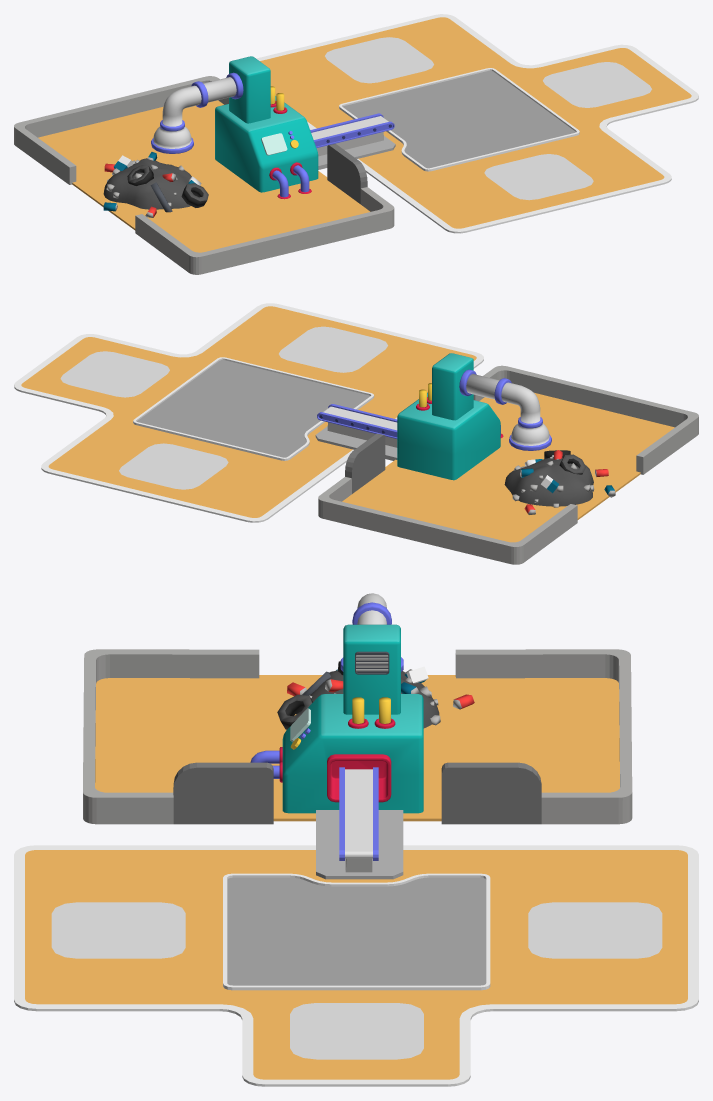
The model's file is Garbage_Container_L1.fbx.
The picture shows the model from 3 angles, top to bottom: view 1: azimuth 30°, elevation 25°; view 2: azimuth 150°, elevation 25°; view 3: azimuth 270°, elevation 25°; orthographic projection. The views are drawn at different scales.
Visible parts, largest first — view 1: Cube.096, Cube.097, Cube.160, Cube.008, Cube.014, Cube.007, Sphere, Upgrade Box, Buy Garbage Box, Pick Up Box, Cylinder.019, Cube.021 (+5 smaller); view 2: Cube.096, Cube.097, Cube.160, Cube.007, Cube.014, Cube.008, Sphere, Pick Up Box, Buy Garbage Box, Upgrade Box, Cylinder.019, Cube.021 (+4 smaller); view 3: Cube.096, Cube.097, Cube.160, Cube.007, Cube.008, Cube.014, Buy Garbage Box, Upgrade Box, Pick Up Box, Cube.021, Cube.012, Sphere (+4 smaller).
Part boxes in pixels (x1=…): Cube.096: x1=256, y1=14, x2=698, y2=233; Cube.097: x1=38, y1=100, x2=370, y2=252; Cube.160: x1=339, y1=68, x2=579, y2=171; Cube.008: x1=135, y1=144, x2=394, y2=274; Cube.014: x1=215, y1=96, x2=318, y2=192; Cube.007: x1=14, y1=76, x2=228, y2=184; Sphere: x1=103, y1=152, x2=208, y2=217; Upgrade Box: x1=484, y1=154, x2=593, y2=200; Buy Garbage Box: x1=325, y1=37, x2=433, y2=83; Pick Up Box: x1=543, y1=62, x2=651, y2=107; Cylinder.019: x1=151, y1=77, x2=236, y2=153; Cube.021: x1=229, y1=56, x2=270, y2=123; Cube.096: x1=14, y1=303, x2=483, y2=522; Cube.097: x1=342, y1=392, x2=674, y2=542; Cube.160: x1=133, y1=357, x2=374, y2=460; Cube.007: x1=318, y1=433, x2=577, y2=564; Cube.014: x1=397, y1=392, x2=500, y2=480; Cube.008: x1=473, y1=365, x2=698, y2=474; Sphere: x1=504, y1=450, x2=615, y2=514; Pick Up Box: x1=60, y1=351, x2=169, y2=397; Buy Garbage Box: x1=119, y1=443, x2=228, y2=489; Upgrade Box: x1=279, y1=326, x2=387, y2=372; Cylinder.019: x1=466, y1=374, x2=551, y2=450; Cube.021: x1=432, y1=353, x2=473, y2=420; Cube.096: x1=14, y1=845, x2=698, y2=1086; Cube.097: x1=95, y1=675, x2=619, y2=821; Cube.160: x1=223, y1=873, x2=490, y2=990; Cube.007: x1=441, y1=649, x2=632, y2=824; Cube.008: x1=83, y1=649, x2=273, y2=824; Cube.014: x1=282, y1=694, x2=423, y2=813; Buy Garbage Box: x1=528, y1=902, x2=662, y2=958; Upgrade Box: x1=51, y1=902, x2=185, y2=958; Pick Up Box: x1=290, y1=1003, x2=423, y2=1059; Cube.021: x1=343, y1=624, x2=400, y2=714; Cube.012: x1=316, y1=810, x2=403, y2=879; Sphere: x1=277, y1=661, x2=474, y2=729.
Bounding box in the file's own units: 3276 × 586 × 2300.
